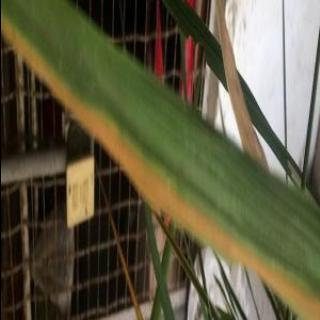Hawar-Daun: (0, 3, 319, 319)
